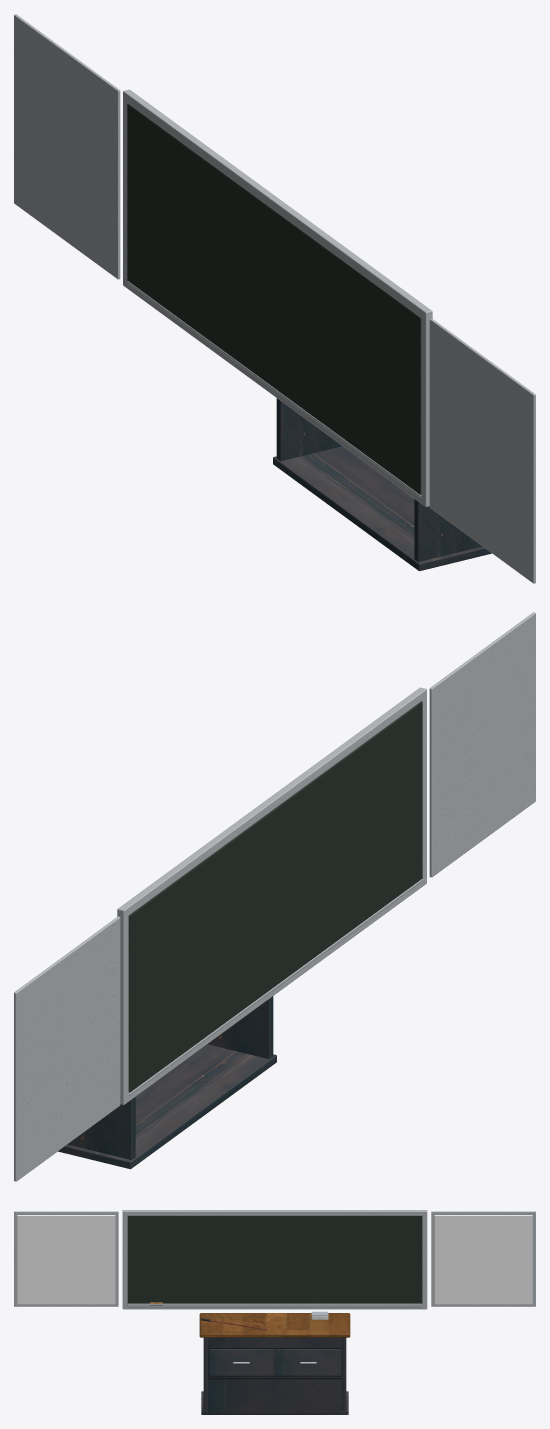
The model's file is cl-board.glb.
3 renders of one model, top to bottom at view 1: azimuth 30°, elevation 25°; view 2: azimuth 150°, elevation 25°; view 3: azimuth 270°, elevation 25°, orthographic. The views are drawn at different scales.
Parts seen in each view (by area): view 1: Blackboard, WhiteBoardLeftBack, WhiteBoardRightBack, DeskPlinth, BoardFrameTop, DeskSideL, DeskSideR, BoardFrameBottom, BoardFrameLeft, ChalkTray, BoardFrameRight; view 2: Blackboard, WhiteBoardLeftBack, WhiteBoardRightBack, DeskPlinth, BoardFrameTop, DeskSideR, DeskSideL, BoardFrameBottom, BoardFrameRight, ChalkTray, BoardFrameLeft; view 3: Blackboard, WhiteBoardLeft, WhiteBoardRight, DeskFront, DeskTop, BoardFrameTop, DrawerFront0, DrawerFront1, ChalkTrayLip, WhiteBoardLeftBack, WhiteBoardRightBack, BoardFrameBottom (+6 smaller).
Part boxes in pixels (x1,y1,x2,y2): Blackboard: (127, 103, 421, 494); WhiteBoardLeftBack: (429, 318, 535, 583); WhiteBoardRightBack: (14, 14, 120, 279); DeskPlinth: (273, 446, 491, 571); BoardFrameTop: (123, 89, 432, 320); DeskSideL: (414, 499, 482, 561); DeskSideR: (276, 398, 342, 461); BoardFrameBottom: (123, 279, 429, 506); BoardFrameLeft: (421, 308, 432, 506); ChalkTray: (127, 281, 420, 497); BoardFrameRight: (123, 90, 132, 285); Blackboard: (128, 701, 422, 1092); WhiteBoardLeftBack: (429, 612, 535, 877); WhiteBoardRightBack: (14, 916, 120, 1181); DeskPlinth: (58, 1044, 276, 1169); BoardFrameTop: (117, 687, 426, 918); DeskSideR: (67, 1097, 135, 1159); DeskSideL: (207, 996, 273, 1059); BoardFrameBottom: (120, 877, 426, 1104); BoardFrameRight: (117, 906, 128, 1104); ChalkTray: (129, 879, 422, 1095); BoardFrameLeft: (417, 688, 426, 885); Blackboard: (127, 1216, 422, 1303); WhiteBoardLeft: (17, 1215, 115, 1304); WhiteBoardRight: (434, 1215, 532, 1304); DeskFront: (208, 1337, 341, 1413); DeskTop: (199, 1313, 350, 1337); BoardFrameTop: (123, 1210, 426, 1215); DrawerFront0: (209, 1349, 273, 1375); DrawerFront1: (276, 1349, 340, 1375); ChalkTrayLip: (127, 1303, 422, 1307); WhiteBoardLeftBack: (14, 1211, 118, 1306); WhiteBoardRightBack: (431, 1211, 535, 1306); BoardFrameBottom: (122, 1305, 427, 1309).
Size of the model in its own units: 1.14 by 2.26 by 6.38.
Materials: 15 (15 with a texture image).
